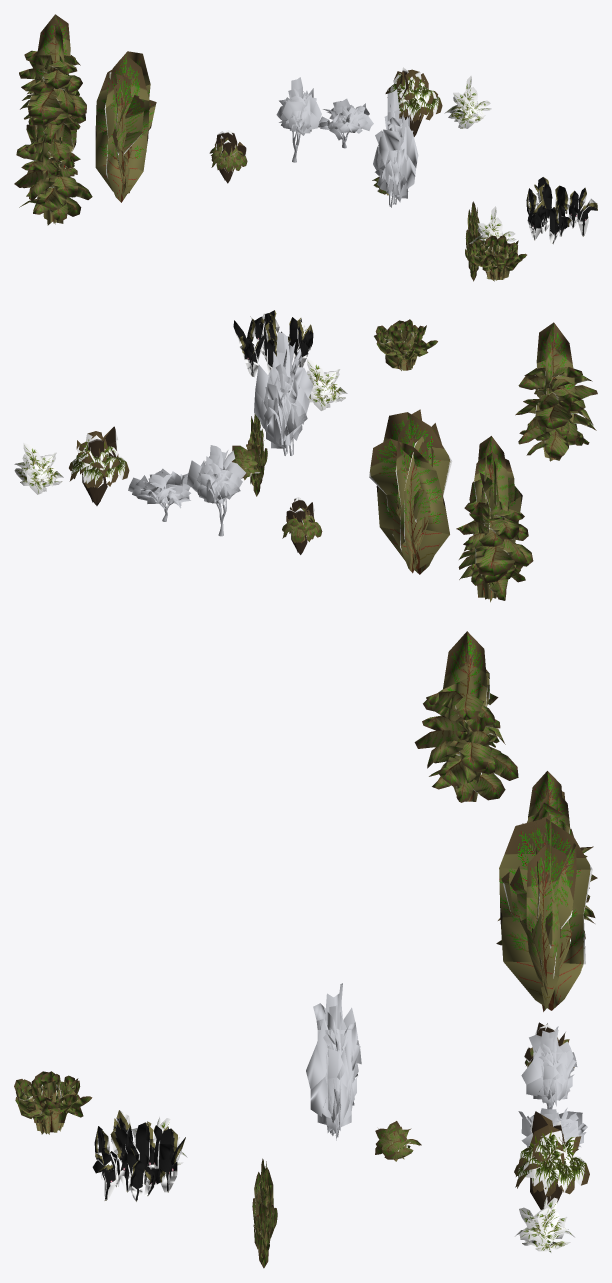
File: chateau noisy plants.fbx
The picture shows the model from 3 angles, top to bottom: view 1: azimuth 30°, elevation 25°; view 2: azimuth 150°, elevation 25°; view 3: azimuth 270°, elevation 25°; orthographic projection. The views are drawn at different scales.
Parts seen in each view (by area): view 1: PINO VELA, PINO LIBRO.001, PINO LIBRO, arbol silvestre rojizo.002, Bush_05.006, Bush_05.005, arbol silvestre rojizo, Bush_05.004, arbol silvestre rojizo.001, Bush_05.003, Bush_05.002, Bush_05.007 (+1 smaller); view 2: PINO VELA, PINO LIBRO, PINO LIBRO.001, arbol silvestre rojizo.002, Bush_05.005, Bush_05.006, arbol silvestre rojizo, Bush_05.004, arbol silvestre rojizo.001, Bush_05.002, Bush_05.003, Bush_05.001 (+2 smaller); view 3: PINO VELA, PINO LIBRO.001, arbol silvestre rojizo.002, Bush_05.006, Bush_05.005, Bush_05.004, arbol silvestre rojizo, PINO LIBRO, Bush_05.002, Bush_05.007, arbol silvestre rojizo.001, Bush_05.000.
Part boxes in pixels (box(x1,y1,x2,y2)): PINO VELA: box(95, 51, 156, 202); PINO LIBRO.001: box(19, 14, 86, 143); PINO LIBRO: box(14, 124, 92, 225); arbol silvestre rojizo.002: box(373, 89, 418, 207); Bush_05.006: box(526, 177, 597, 244); Bush_05.005: box(385, 67, 442, 136); arbol silvestre rojizo: box(276, 77, 321, 162); Bush_05.004: box(470, 235, 526, 281); arbol silvestre rojizo.001: box(318, 98, 373, 148); Bush_05.003: box(209, 130, 247, 183); Bush_05.002: box(444, 75, 491, 128); Bush_05.007: box(465, 201, 480, 281); PINO VELA: box(369, 409, 452, 574); PINO LIBRO: box(456, 436, 533, 602); PINO LIBRO.001: box(515, 322, 597, 461); arbol silvestre rojizo.002: box(254, 331, 313, 455); Bush_05.005: box(69, 426, 129, 505); Bush_05.006: box(233, 310, 313, 377); arbol silvestre rojizo: box(187, 445, 245, 536); Bush_05.004: box(374, 319, 437, 370); arbol silvestre rojizo.001: box(128, 468, 190, 521); Bush_05.002: box(14, 443, 63, 494); Bush_05.003: box(282, 497, 322, 554); Bush_05.001: box(307, 359, 347, 410); PINO VELA: box(499, 815, 592, 1011); PINO LIBRO.001: box(414, 631, 518, 802); arbol silvestre rojizo.002: box(306, 983, 361, 1140); Bush_05.006: box(92, 1110, 185, 1201); Bush_05.005: box(514, 1111, 589, 1209); Bush_05.004: box(14, 1071, 92, 1134); arbol silvestre rojizo: box(521, 1026, 577, 1109); PINO LIBRO: box(496, 771, 597, 945); Bush_05.002: box(514, 1196, 574, 1252); Bush_05.007: box(252, 1158, 277, 1268); arbol silvestre rojizo.001: box(518, 1107, 587, 1148); Bush_05.000: box(375, 1121, 421, 1161).
Bounding box in the file's own units: 5392 × 3095 × 4020.
Materials: 2 (1 with a texture image).
